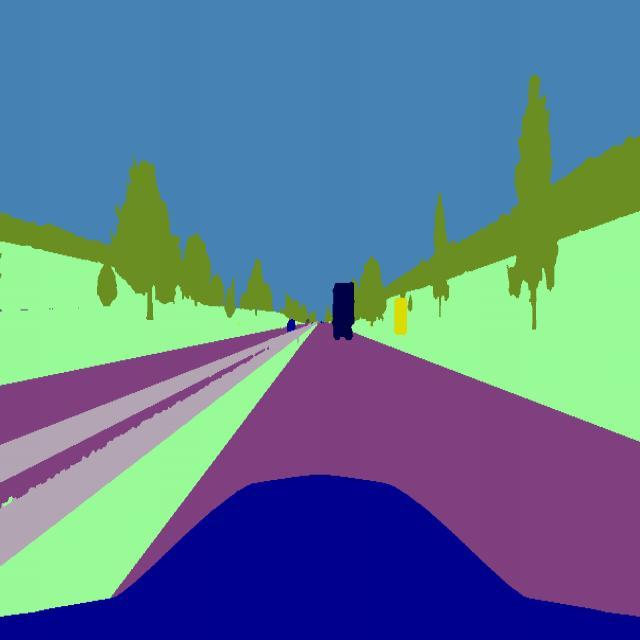safe: (332, 276, 356, 344), (286, 314, 296, 338)
